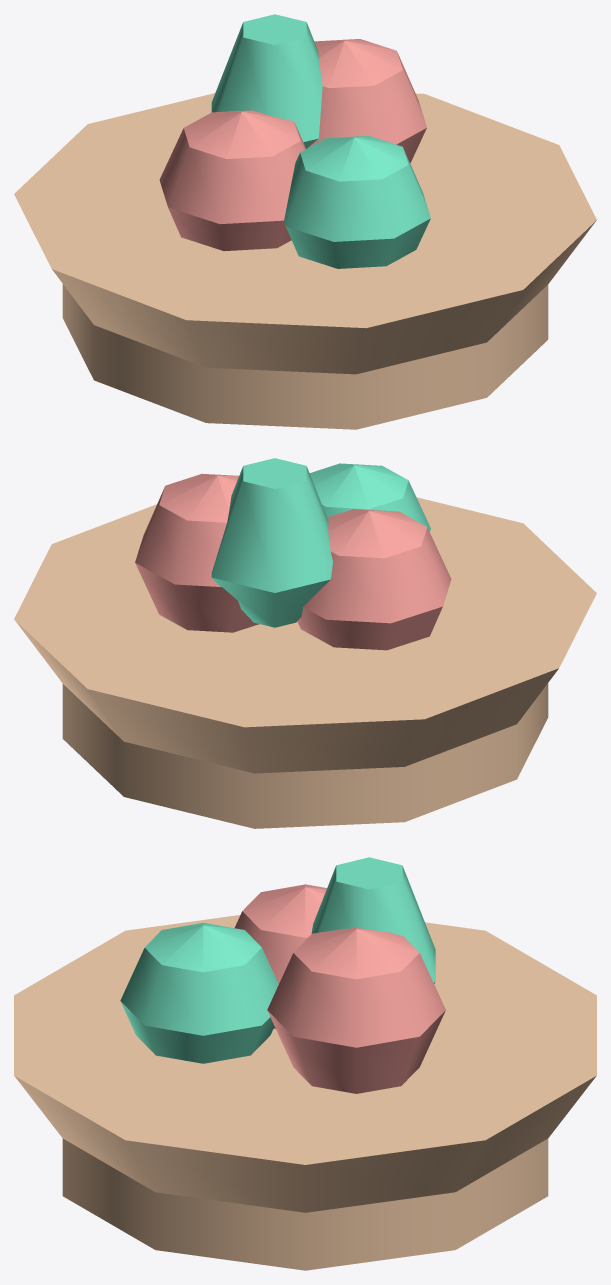
Rendered from bowlFruit.glb.
The picture shows the model from 3 angles, top to bottom: view 1: azimuth 30°, elevation 25°; view 2: azimuth 150°, elevation 25°; view 3: azimuth 270°, elevation 25°; orthographic projection. The views are drawn at different scales.
Parts seen in each view (by area): view 1: bowlFruit; view 2: bowlFruit; view 3: bowlFruit.
Part boxes in pixels (<box>): bowlFruit: <box>14,14,596,429</box>; bowlFruit: <box>14,458,596,828</box>; bowlFruit: <box>14,857,596,1270</box>.
Size of the model in its own units: 0.24 by 0.14 by 0.2283.
